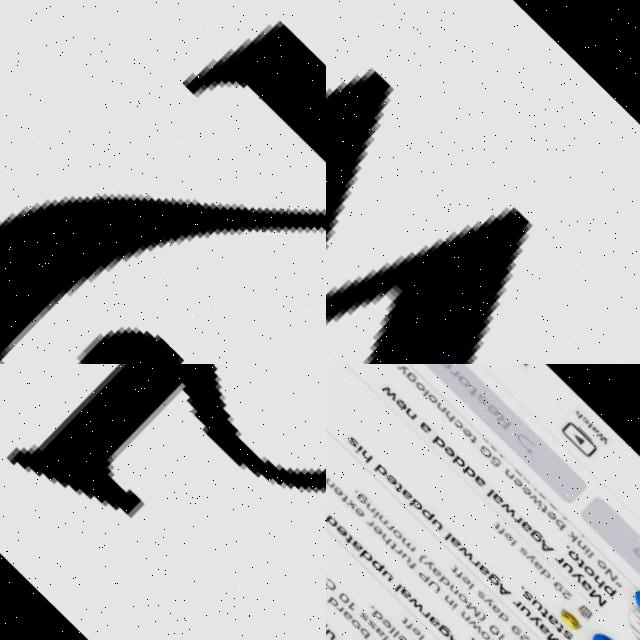0: (488, 615, 500, 628), (338, 586, 350, 598)
1: (347, 595, 357, 606), (497, 625, 507, 635)
2: (0, 0, 326, 364), (561, 580, 572, 591)
5: (510, 616, 522, 629), (489, 446, 501, 459)
9: (552, 572, 565, 584)
D: (0, 364, 326, 640)
W: (326, 0, 640, 364)
